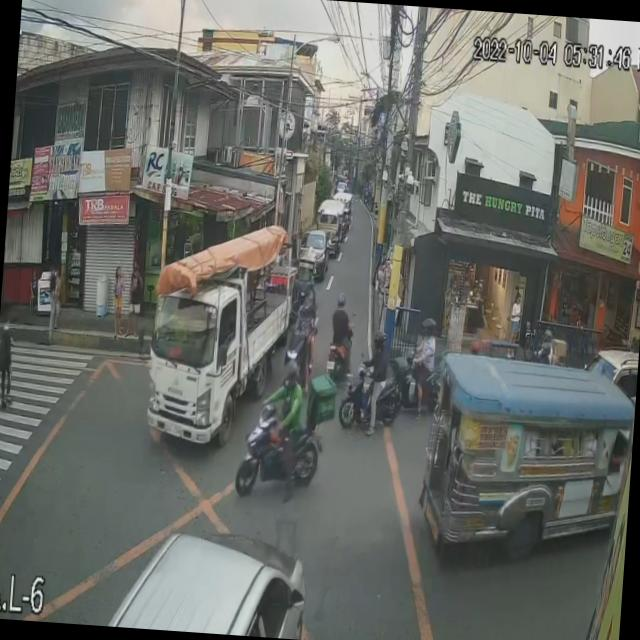full: (280, 360, 299, 392)
